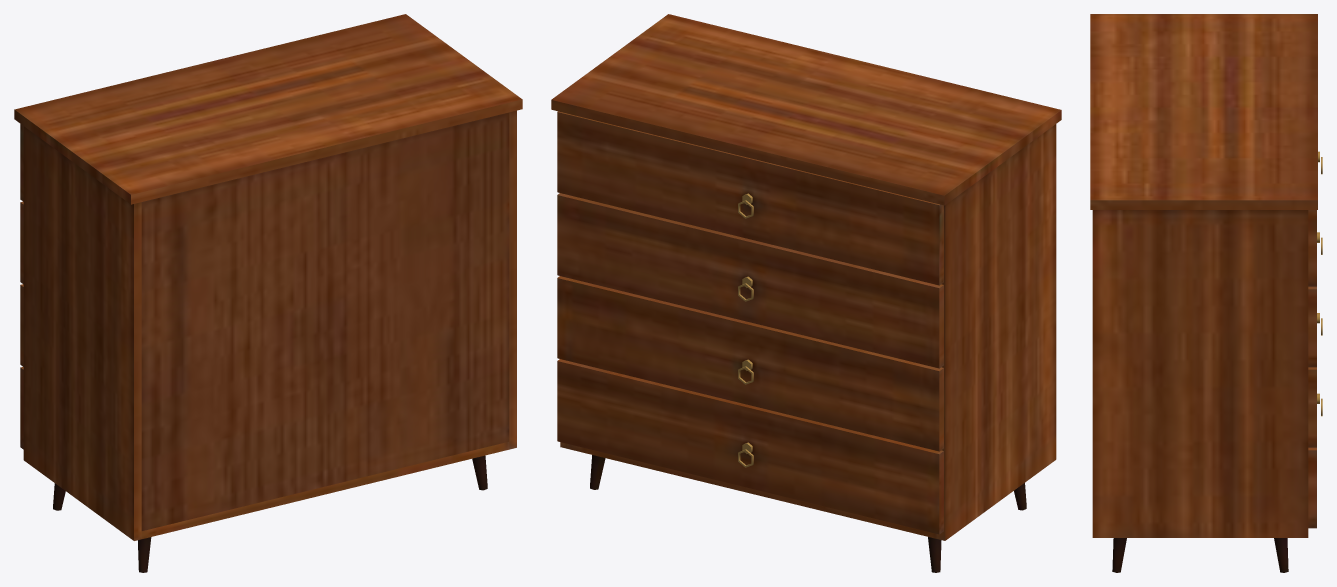
The model's file is dresser_70s_lod1_web.glb.
3 renders of one model, left to right at view 1: azimuth 30°, elevation 25°; view 2: azimuth 150°, elevation 25°; view 3: azimuth 270°, elevation 25°, orthographic. The views are drawn at different scales.
Visible parts, largest first — view 1: Dresser70s_Body; view 2: Dresser70s_Body, Drawer_3_Mesh, Drawer_1_Mesh, Drawer_2_Mesh, Drawer_4_Mesh; view 3: Dresser70s_Body, Drawer_1_Mesh, Drawer_3_Mesh, Drawer_2_Mesh, Drawer_4_Mesh.
Boxes of the visible parts, left/top/right/bottom form: Dresser70s_Body: left=14, top=14, right=522, bottom=572; Dresser70s_Body: left=551, top=14, right=1061, bottom=572; Drawer_3_Mesh: left=557, top=193, right=943, bottom=368; Drawer_1_Mesh: left=557, top=359, right=943, bottom=534; Drawer_2_Mesh: left=557, top=276, right=943, bottom=451; Drawer_4_Mesh: left=557, top=111, right=943, bottom=285; Dresser70s_Body: left=1090, top=14, right=1317, bottom=572; Drawer_1_Mesh: left=1308, top=447, right=1316, bottom=528; Drawer_3_Mesh: left=1308, top=286, right=1316, bottom=367; Drawer_2_Mesh: left=1308, top=367, right=1316, bottom=447; Drawer_4_Mesh: left=1308, top=210, right=1316, bottom=286.
Size of the model in its own units: 0.92 by 0.8833 by 0.485.
Materials: 2 (2 with a texture image).
